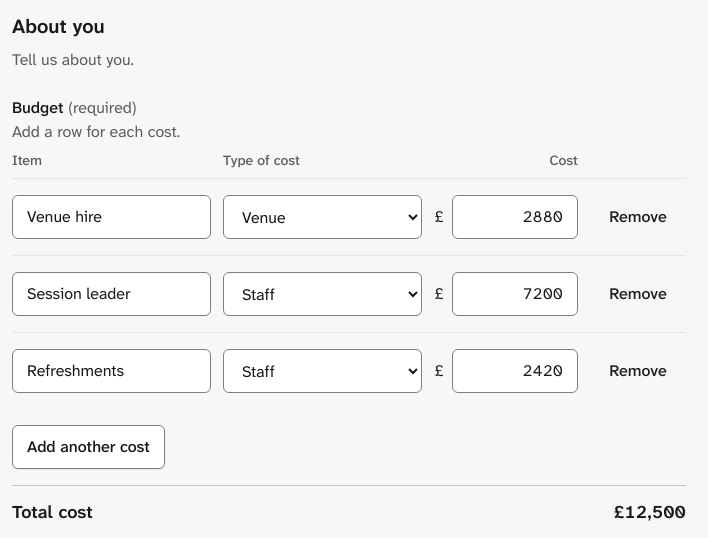
Test: TableQuestion › rows › takes up the room when a removed row leaves the next one in its place
The width and height of the screenshot is (708, 538).
Click the button named "Remove cost 1" at x=638, y=217, box [590,195,686,239]
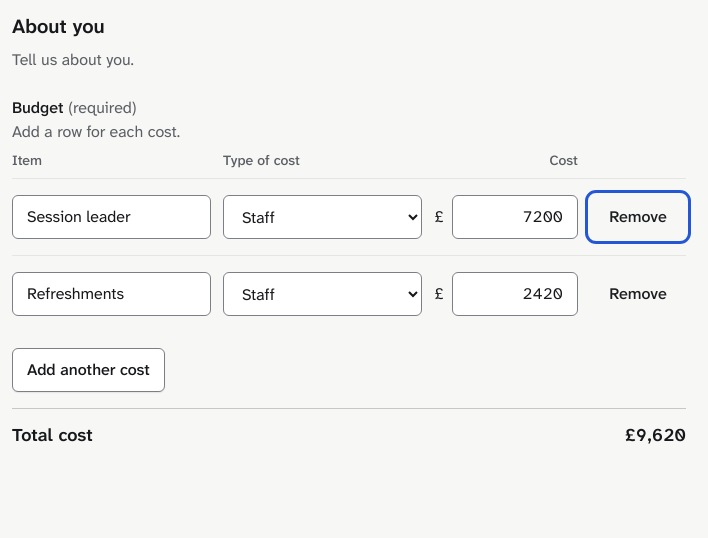
Click the button named "Remove cost 1" at x=638, y=217, box [590,195,686,239]
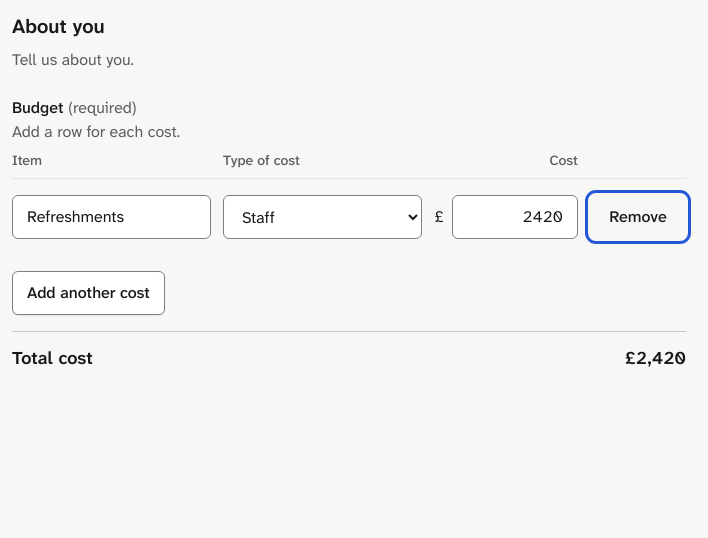
Expected: the 1st field named "Item" holds "Refreshments", [12,195,211,239]
